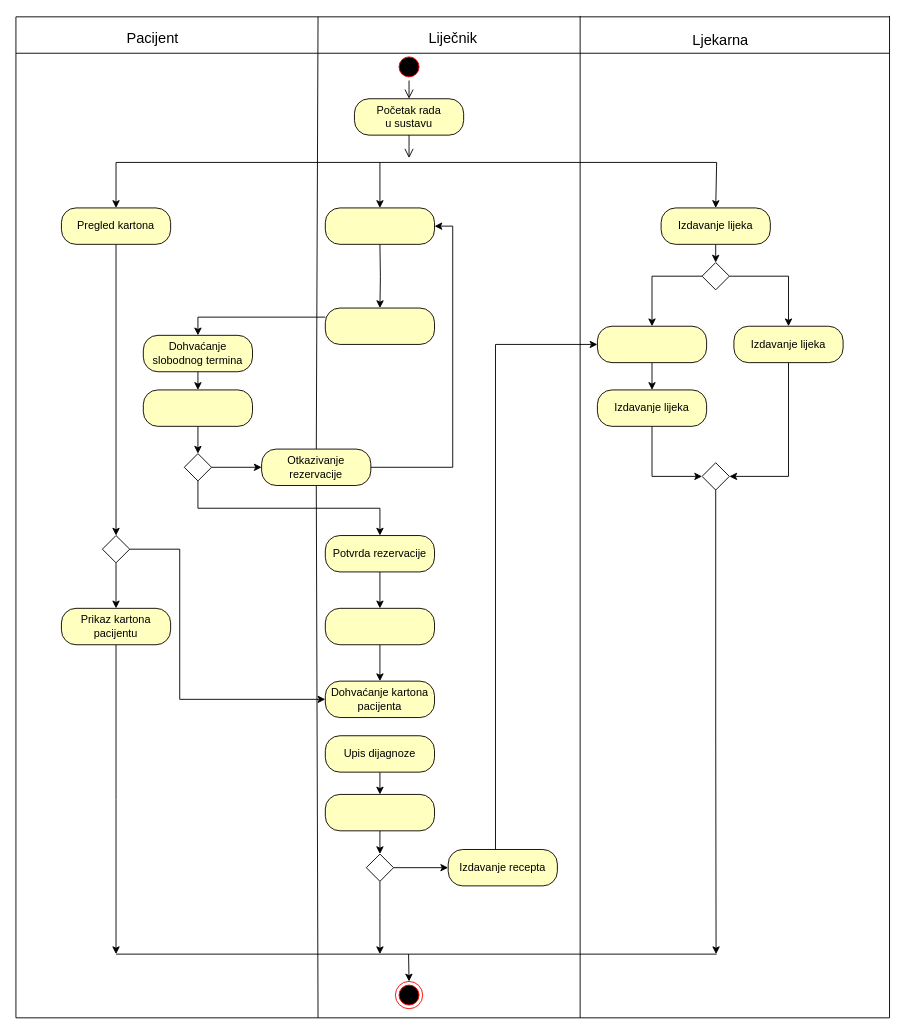
The diagram is 906 pixels wide and 1035 high, and some of its shapes have lost their labels. Each missing label, with the box of its shape:
Dohvaćanje recepta: (597, 325, 707, 363)
Odabir slobodnog termina: (142, 389, 253, 426)
Pregled: (324, 607, 435, 645)
Rezervacija: (324, 207, 435, 244)
Upis slobodnog termina: (324, 307, 435, 344)
Upis terapije: (324, 794, 435, 831)
